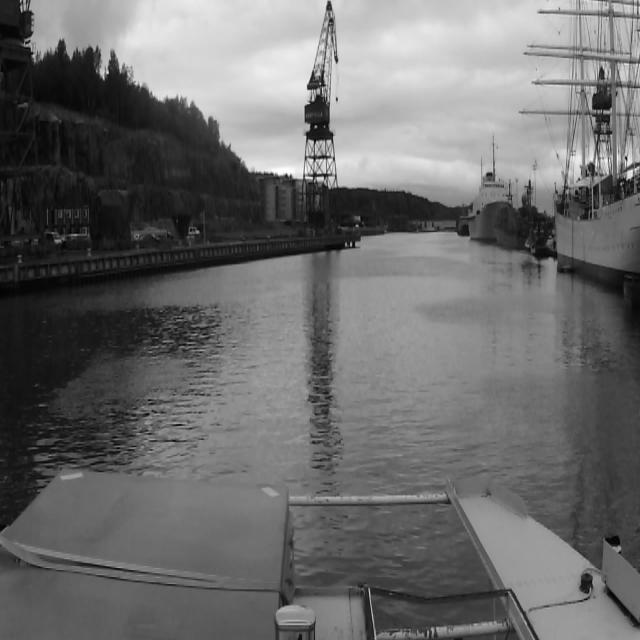ship: (554, 0, 640, 297), (468, 131, 496, 246), (495, 177, 527, 249)
